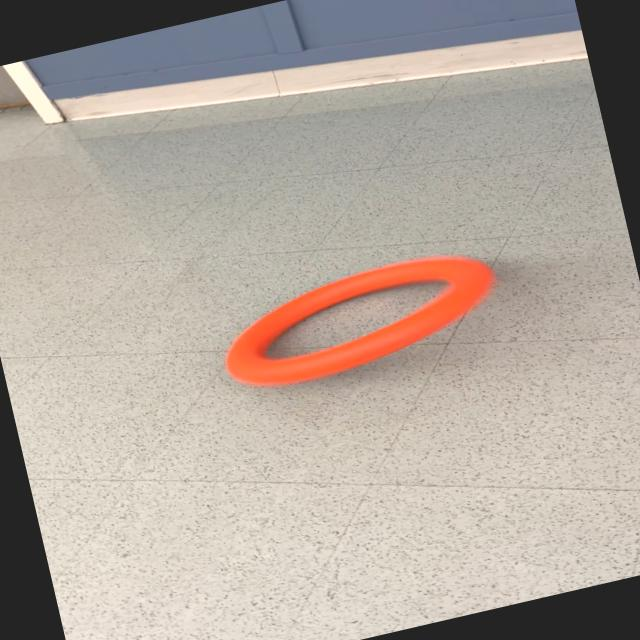note: (210, 240, 510, 400)
